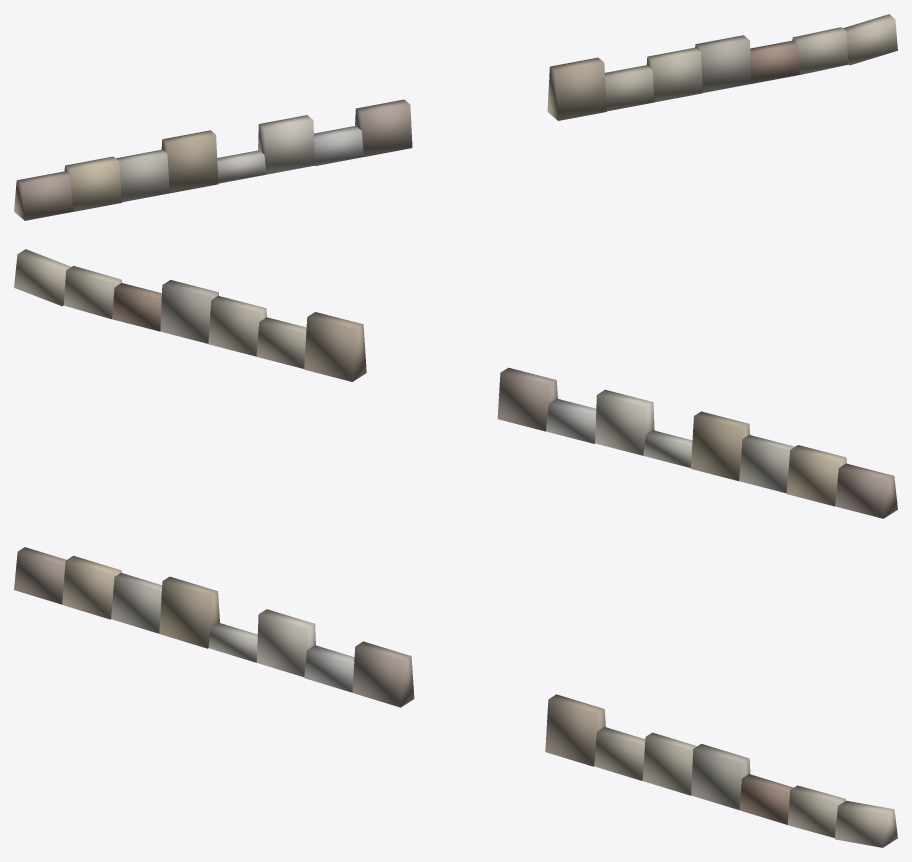
Rendered from farm_14_3_collision.glb.
3 renders of one model, top to bottom at view 1: azimuth 30°, elevation 25°; view 2: azimuth 150°, elevation 25°; view 3: azimuth 330°, elevation 25°, orthographic. The views are drawn at different scales.
Parts seen in each view (by area): view 1: geometry_0; view 2: geometry_0; view 3: geometry_0.
Part boxes in pixels (x1,y1,x2,y2): geometry_0: (14, 14, 897, 220); geometry_0: (14, 249, 897, 518); geometry_0: (14, 547, 897, 847).
Size of the model in its own units: 28.38 by 1.98 by 2.53.
